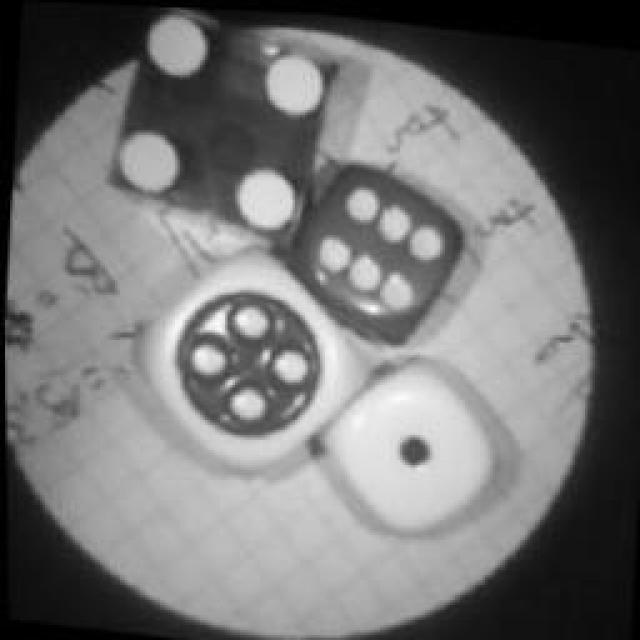dice_1: (315, 338, 500, 538)
dice_4: (95, 2, 335, 250), (131, 234, 361, 486)
dice_6: (281, 151, 471, 349)
